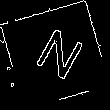N_SW: (25, 23, 85, 87)
